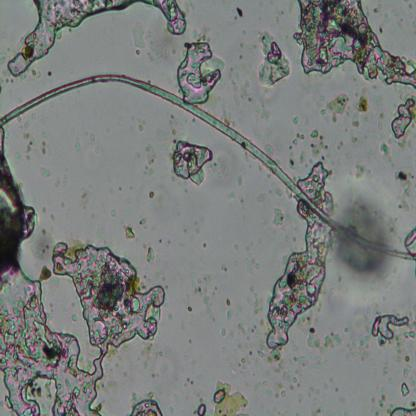Air bubble: (6, 0, 186, 77), (179, 36, 221, 106), (196, 402, 206, 416)
Background material: (0, 127, 166, 416), (296, 0, 416, 90), (266, 228, 336, 350), (342, 188, 396, 244), (255, 32, 294, 92), (278, 354, 324, 403), (132, 338, 177, 388), (300, 163, 338, 215), (231, 69, 270, 119), (212, 148, 250, 198), (231, 316, 264, 373), (174, 140, 214, 186), (341, 243, 390, 280), (10, 118, 49, 162), (186, 269, 216, 323), (370, 312, 416, 347), (343, 303, 372, 355), (213, 378, 250, 416), (290, 130, 332, 162), (389, 95, 416, 140), (151, 30, 180, 69), (127, 392, 165, 416), (392, 168, 411, 212), (170, 361, 198, 390), (32, 225, 56, 258), (321, 93, 351, 119), (305, 331, 342, 349), (73, 177, 91, 210), (258, 350, 285, 372), (248, 284, 265, 314), (130, 20, 146, 50), (368, 385, 388, 408), (143, 144, 156, 176), (355, 161, 372, 182), (263, 376, 279, 398), (403, 228, 416, 253), (243, 256, 260, 275), (355, 94, 368, 116), (388, 405, 416, 414), (273, 208, 285, 228), (399, 382, 412, 400), (379, 139, 392, 157), (156, 127, 169, 144), (147, 244, 156, 267), (124, 226, 136, 240), (225, 298, 232, 322), (264, 142, 274, 158), (234, 7, 245, 21), (71, 139, 81, 153), (256, 193, 267, 204), (39, 168, 51, 177), (292, 112, 299, 125), (219, 326, 226, 338), (201, 239, 209, 249), (109, 207, 116, 218), (148, 190, 156, 199)
Microfibre: (0, 72, 416, 267)
